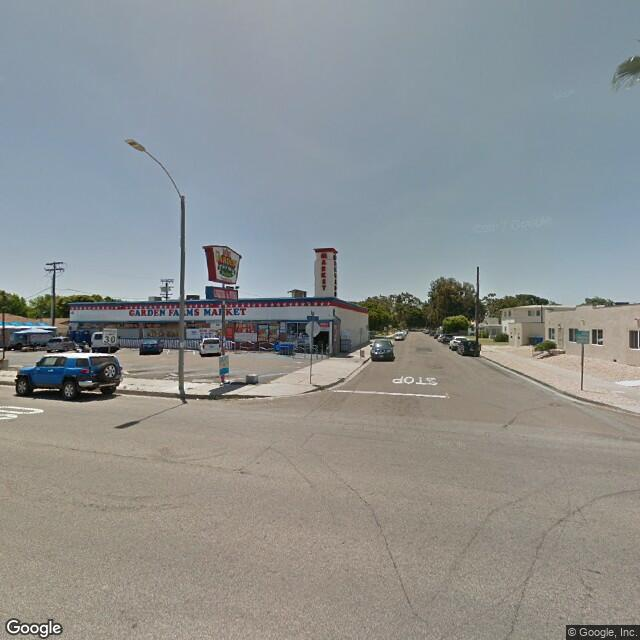litter: (196, 397, 199, 400)
